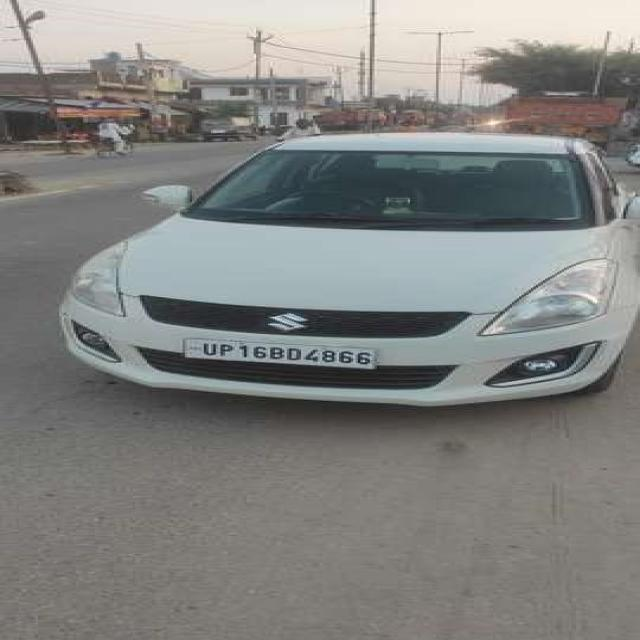plate: (180, 337, 382, 372)
